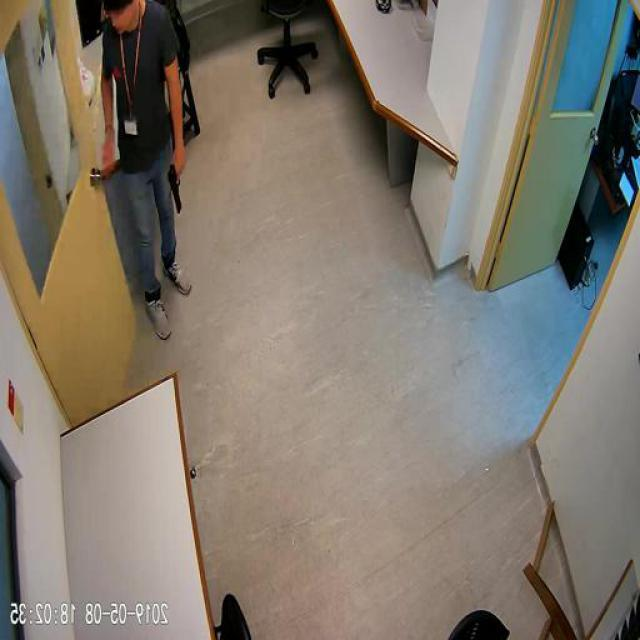Gun: (168, 154, 184, 212)
